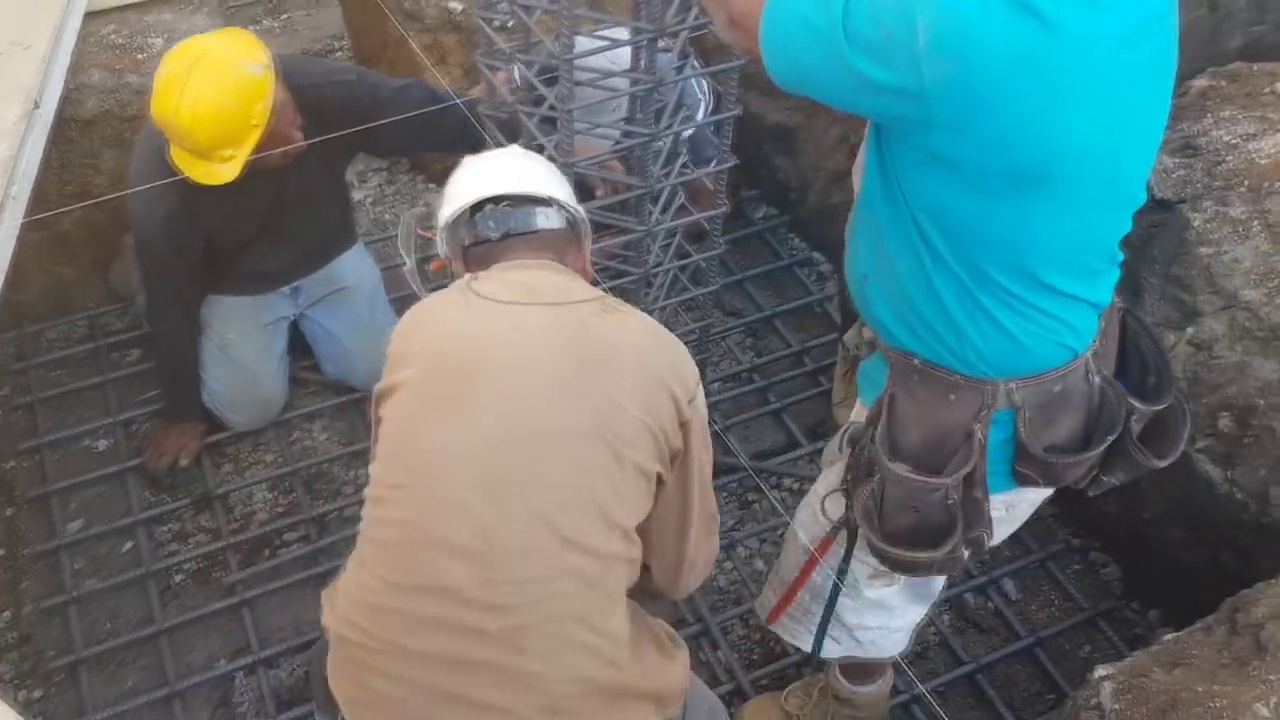helmet: (431, 145, 595, 271), (144, 39, 277, 184)
helmet-on: (430, 144, 606, 302), (144, 38, 310, 186)
person: (702, 0, 1178, 719), (310, 149, 739, 719), (113, 26, 432, 491), (487, 22, 742, 197)
